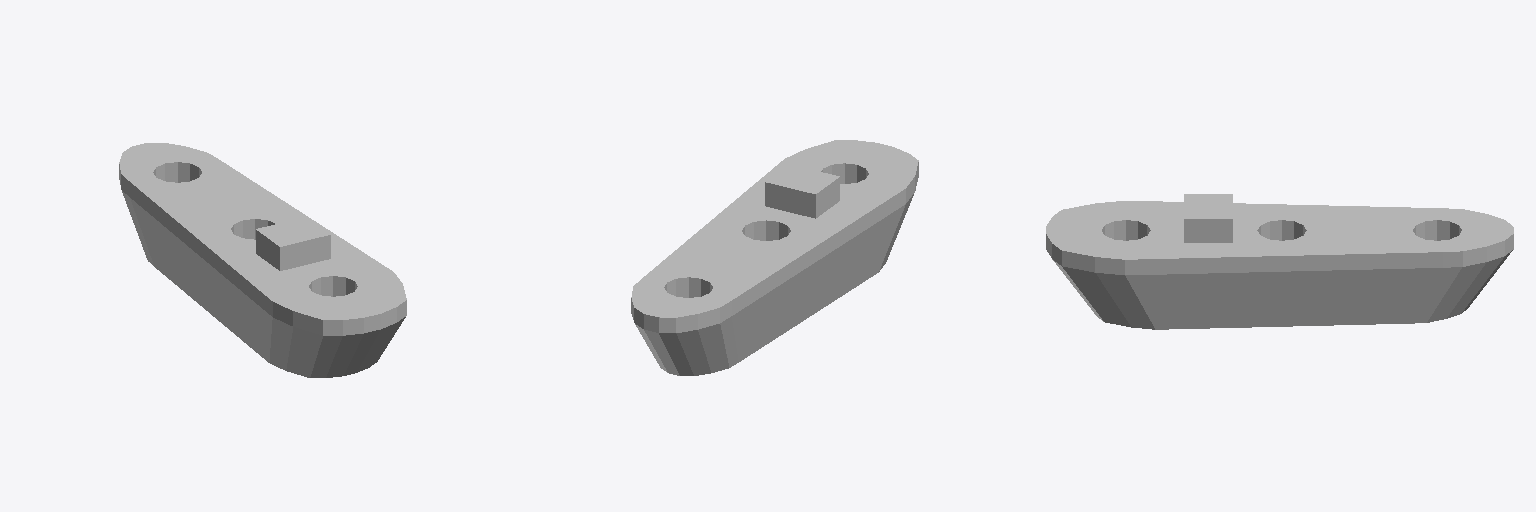
File: Submarine.obj
3 views of the same model, side by side, from view 1: azimuth 30°, elevation 25°; view 2: azimuth 150°, elevation 25°; view 3: azimuth 270°, elevation 25° (orthographic).
Visible parts, largest first — view 1: pCube35; view 2: pCube35; view 3: pCube35.
Boxes of the visible parts, box(x1,y1,x2,y2) form: pCube35: box(119, 143, 406, 377); pCube35: box(631, 140, 918, 375); pCube35: box(1046, 194, 1513, 329).
Size of the model in its own units: 0.8999 by 0.7088 by 3.